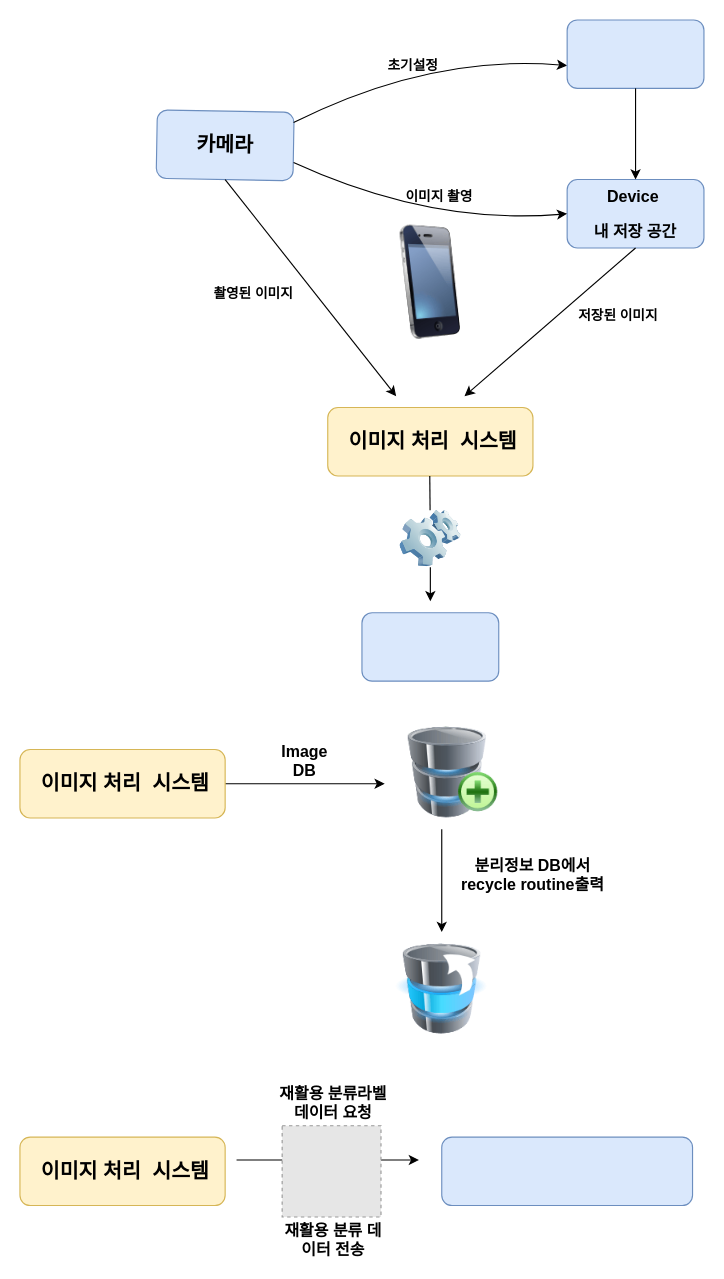
This 724x1279 diagram has some shape labels left out. Grey dashed boxes stand in for pictures. The shapes that lost their labels are listed below. From the top down, each one's centre as x and y in pixels, then its label:
At pixel 635 53: "Machine Learning 기계에 학습화".
At pixel 430 646: "Device 웹앱 화면".
At pixel 567 1171: "인식 데이터 정보 저장소".
